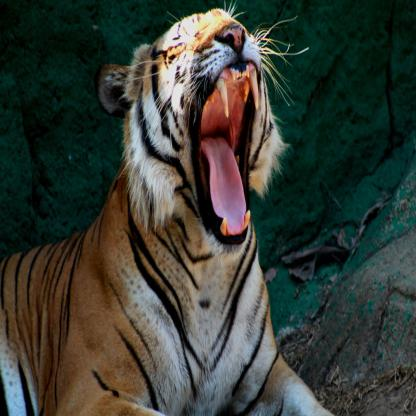Tiger: (0, 0, 335, 416)
